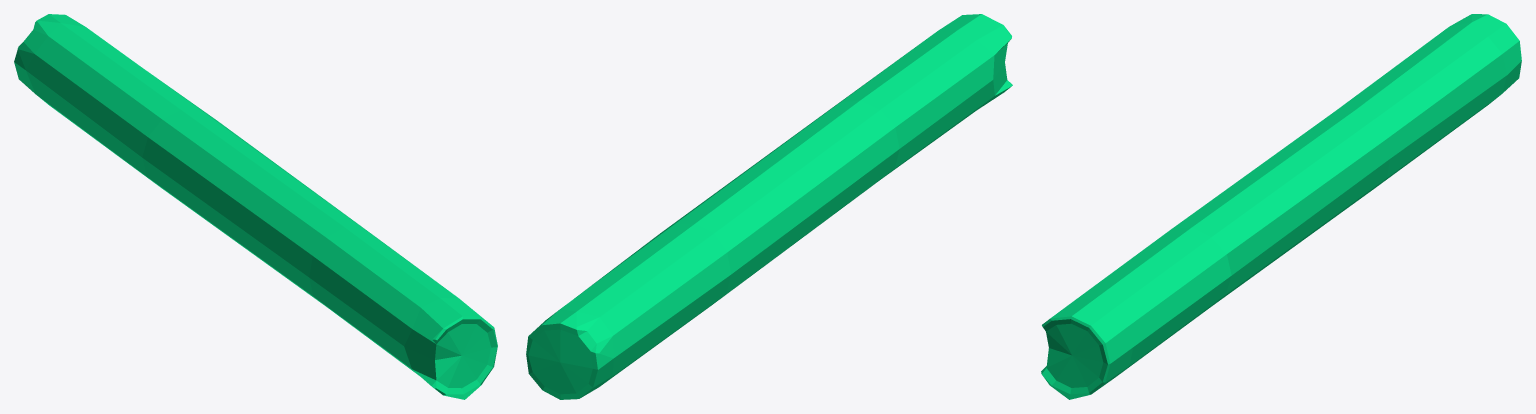
Rendered from Bole_02_Lod1.fbx.
3 views of the same model, side by side, from view 1: azimuth 30°, elevation 25°; view 2: azimuth 150°, elevation 25°; view 3: azimuth 330°, elevation 25° (orthographic).
Visible parts, largest first — view 1: Bole_02_Lod1; view 2: Bole_02_Lod1; view 3: Bole_02_Lod1.
Part boxes in pixels (left/top/right/bottom): Bole_02_Lod1: left=14, top=14, right=497, bottom=399; Bole_02_Lod1: left=526, top=14, right=1012, bottom=399; Bole_02_Lod1: left=1041, top=14, right=1521, bottom=399.
Bounding box in the file's own units: 46.65 × 49.32 × 447.
